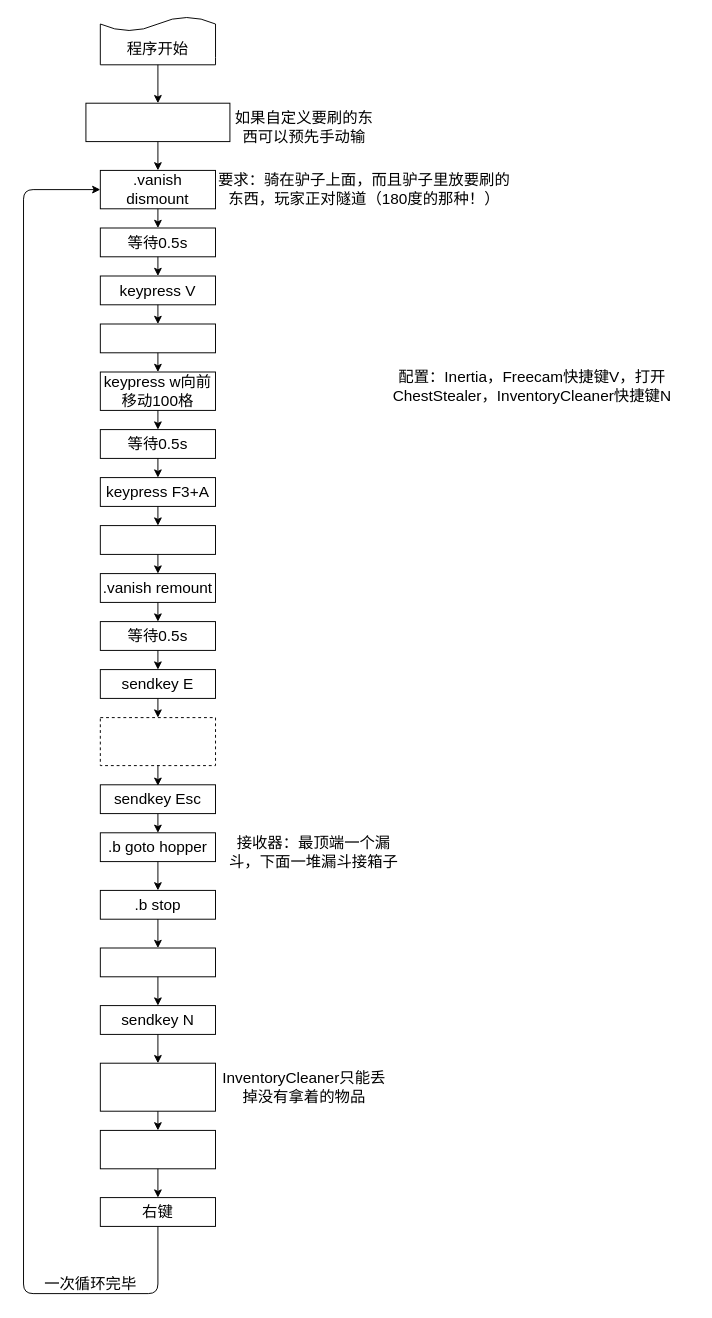
Image size: 712x1318. Some labels were removed from this diagram. The centre of each missing label's shape, as x and y in pixels:
.b follow entities: the point at 157,1149
.inventorycleaner add 16颜色潜影盒: the point at 157,122
ChestStealer 自动发挥作用: the point at 157,741
等待0.2s: the point at 157,338
等待1s: the point at 157,539
视角向下: the point at 157,962
随机换手上物品1s: the point at 157,1086
